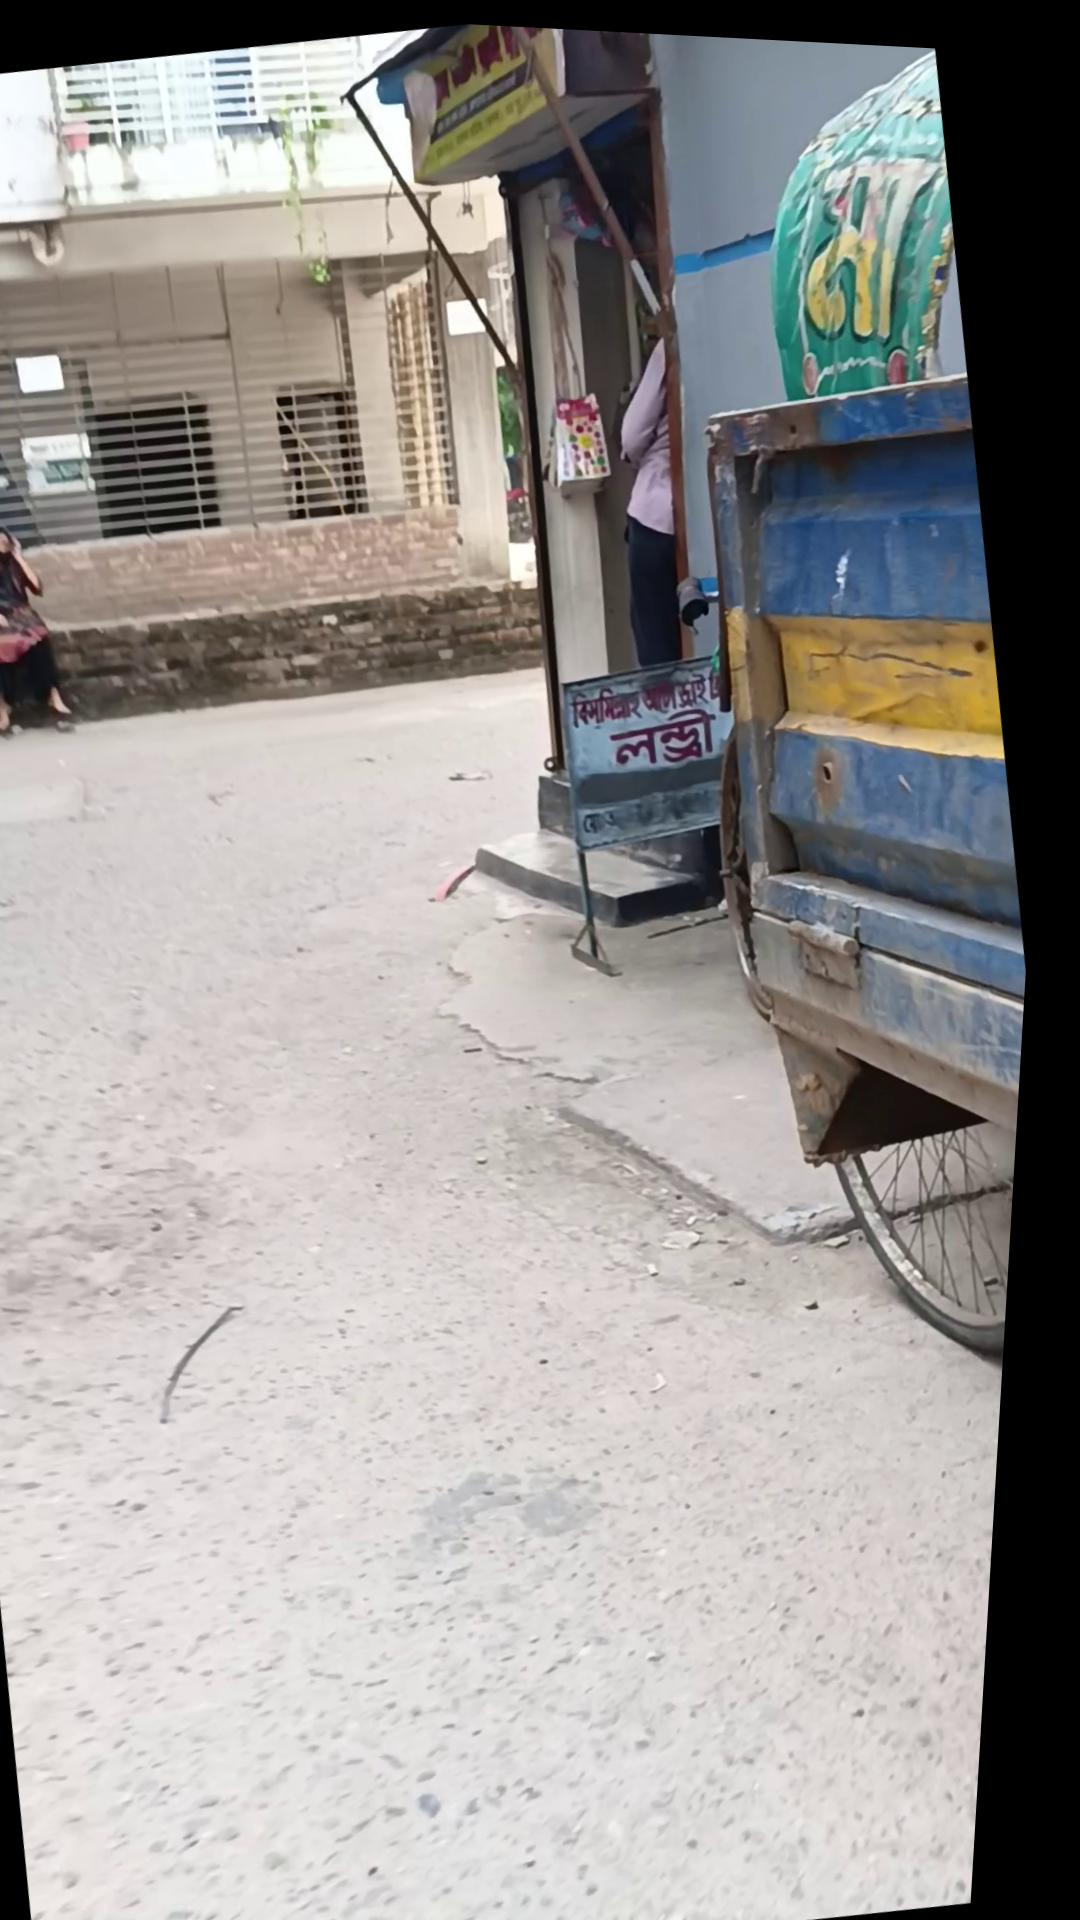Crosswalk: (0, 516, 560, 764), (472, 794, 738, 945)
Motorcycle: (630, 347, 1065, 1378)
Muddy road: (588, 322, 719, 663), (0, 513, 94, 744)
Traffic-sign: (576, 26, 1080, 1379)
Tree: (0, 472, 480, 662)
